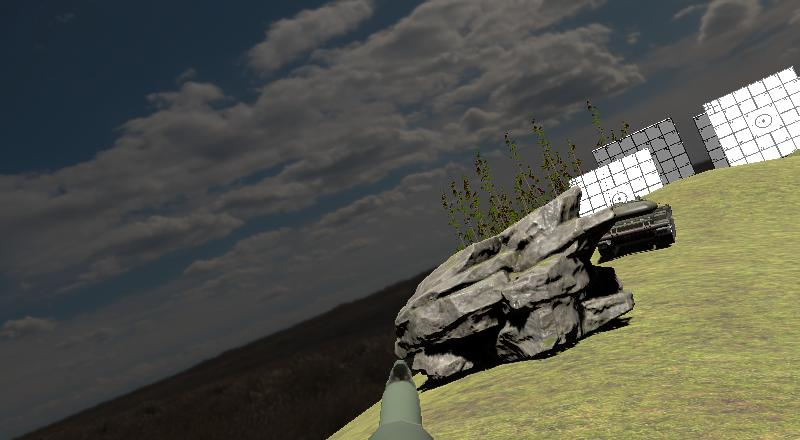Tank: (595, 194, 680, 262)
